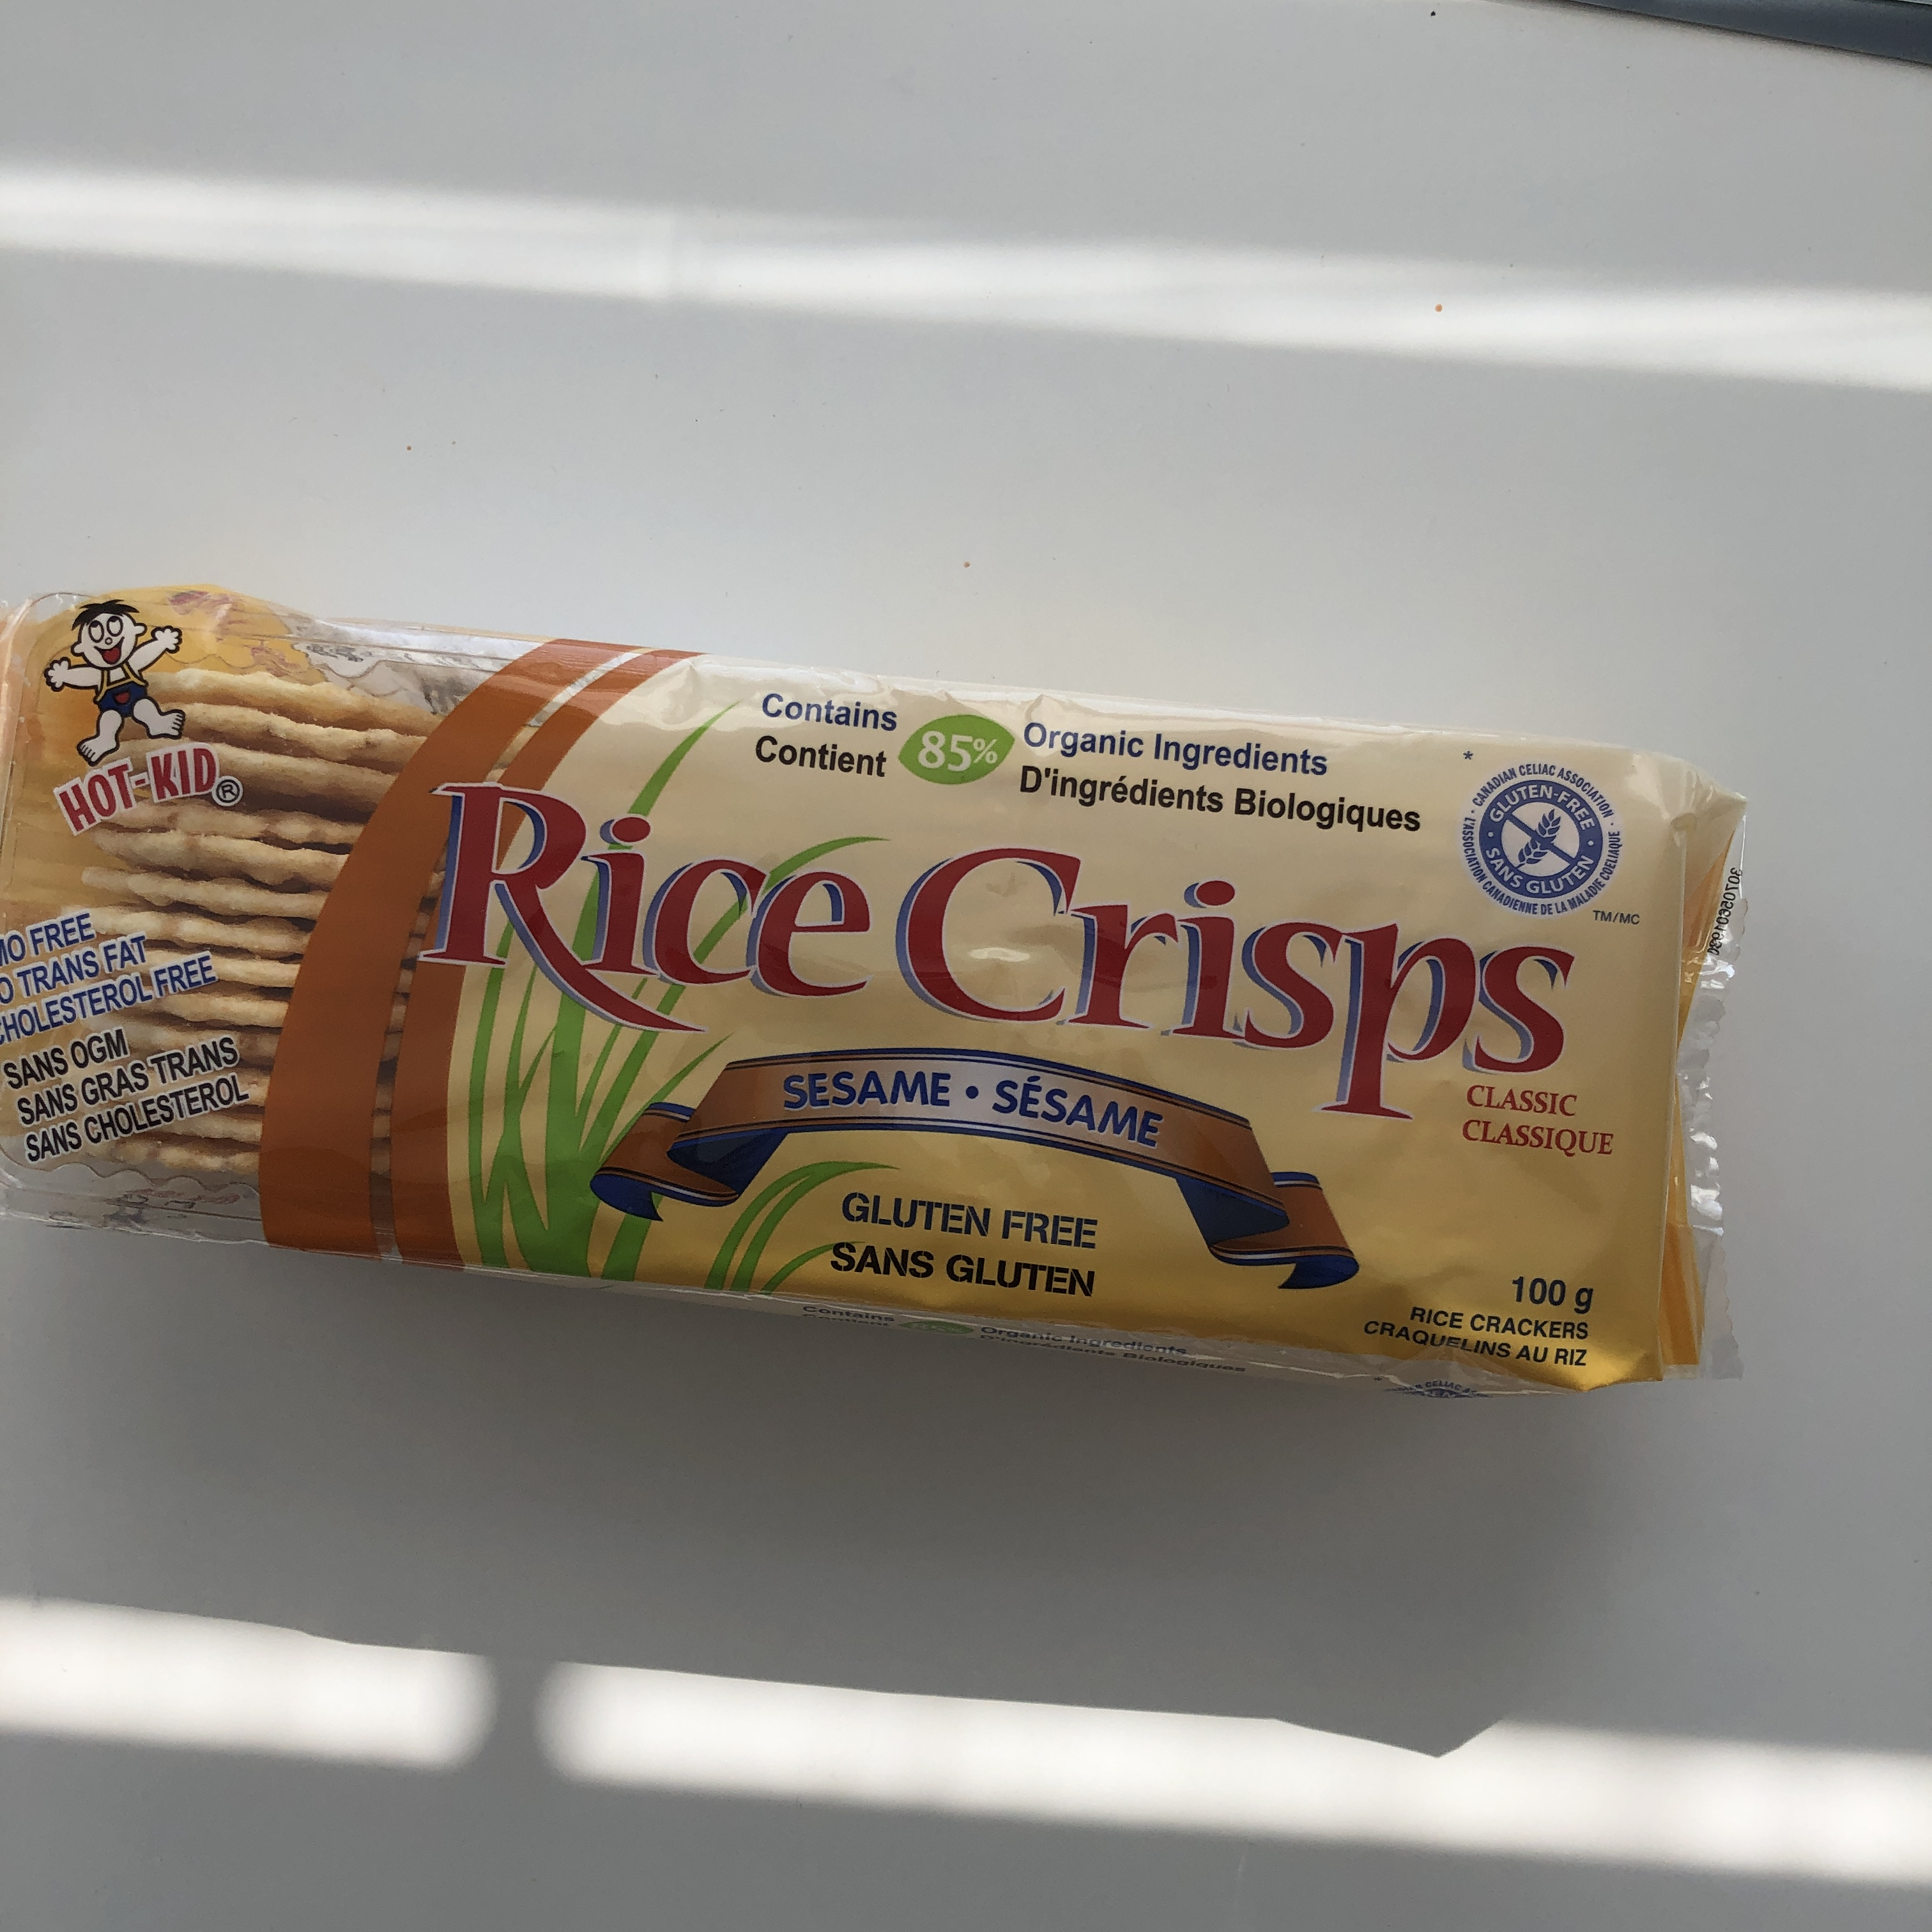hot_kid_rice_crisps_sesame: (591, 240, 1401, 1920)
